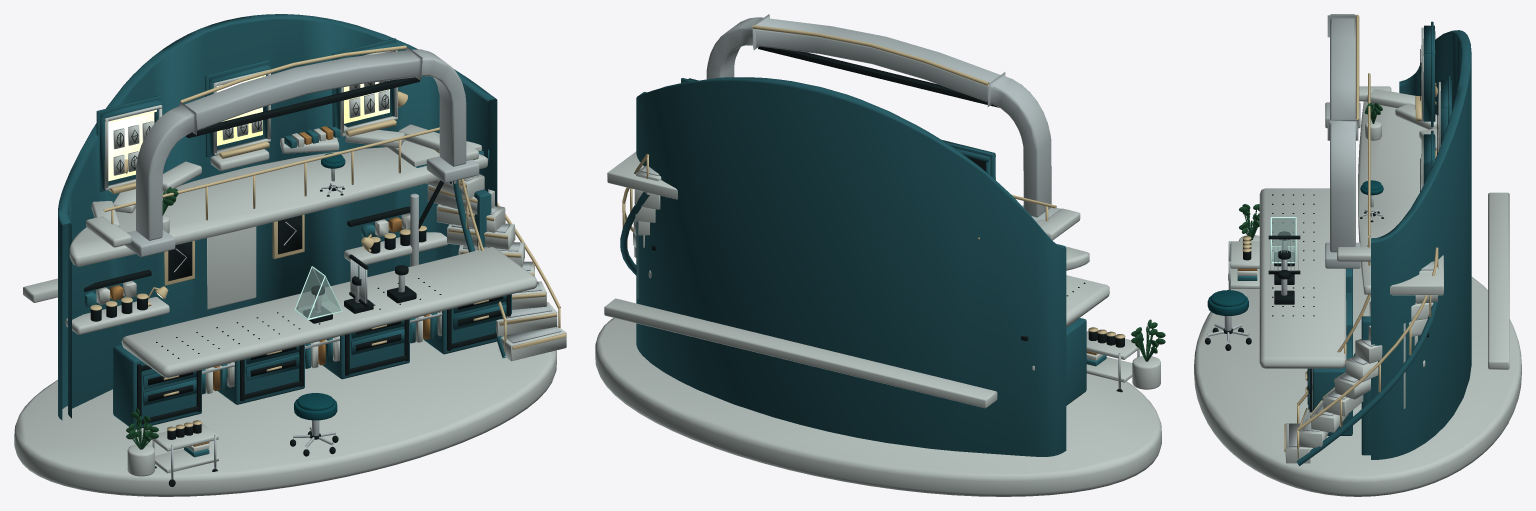
File: lab-compact.glb
3 renders of one model, left to right at view 1: azimuth 30°, elevation 25°; view 2: azimuth 150°, elevation 25°; view 3: azimuth 270°, elevation 25°, orthographic. The views are drawn at different scales.
Visible parts, largest first — view 1: ART_CURVED_WALL, ART_PLINTH, ALCOVE_INSET_FRAME_-2.75_-0.63_0, ART_OPTICAL_BENCH, ALCOVE_FRAME_-2.75, ART_UPPER_GALLERY, ART_GANTRY, ALCOVE_ENGRAVING_0_0_0_AXIS, ALCOVE_SILL_0, GANTRY_FOOT_LEFT, ALCOVE_GLOW_-2.75, BOOK_1 (+5 smaller); view 2: ART_CURVED_WALL, ART_PLINTH, ALCOVE_INSET_FRAME_-2.75_-0.63_0, ART_GANTRY, ALCOVE_FRAME_-2.75, ALCOVE_ENGRAVING_0_0_0_AXIS, ALCOVE_SILL_0, ART_OPTICAL_BENCH, PLANT_LEAF_0; view 3: ART_PLINTH, ART_CURVED_WALL, ALCOVE_INSET_FRAME_-2.75_-0.63_0, ART_OPTICAL_BENCH, ART_UPPER_GALLERY, ART_GANTRY, ALCOVE_FRAME_-2.75, ALCOVE_SILL_0, GANTRY_FOOT_LEFT, ALCOVE_ENGRAVING_0_0_0_AXIS, STOOL_CUSHION, PRISM_GLASSSOLID (+1 smaller).
Boxes of the visible parts, x1,y1,x2,y2 form: ART_CURVED_WALL: (58, 14, 497, 420); ART_PLINTH: (14, 338, 556, 496); ALCOVE_INSET_FRAME_-2.75_-0.63_0: (23, 50, 566, 476); ART_OPTICAL_BENCH: (121, 247, 537, 377); ALCOVE_FRAME_-2.75: (96, 38, 511, 429); ART_UPPER_GALLERY: (69, 147, 487, 266); ART_GANTRY: (136, 46, 466, 240); ALCOVE_ENGRAVING_0_0_0_AXIS: (84, 77, 510, 486); ALCOVE_SILL_0: (90, 45, 566, 431); GANTRY_FOOT_LEFT: (125, 156, 561, 479); ALCOVE_GLOW_-2.75: (108, 75, 389, 298); BOOK_1: (96, 125, 441, 451); ART_CURVED_WALL: (636, 77, 1066, 456); ART_PLINTH: (595, 318, 1161, 496); ALCOVE_INSET_FRAME_-2.75_-0.63_0: (604, 151, 1160, 408); ART_GANTRY: (706, 14, 1051, 217); ALCOVE_FRAME_-2.75: (620, 78, 1086, 405); ALCOVE_ENGRAVING_0_0_0_AXIS: (652, 46, 1124, 392); ALCOVE_SILL_0: (622, 25, 1125, 338); ART_OPTICAL_BENCH: (1066, 275, 1109, 327); PLANT_LEAF_0: (1131, 319, 1165, 361); ART_PLINTH: (1194, 264, 1521, 496); ART_CURVED_WALL: (1371, 30, 1471, 459); ALCOVE_INSET_FRAME_-2.75_-0.63_0: (1230, 27, 1509, 463); ART_OPTICAL_BENCH: (1259, 188, 1346, 368); ART_UPPER_GALLERY: (1358, 101, 1427, 294); ART_GANTRY: (1327, 14, 1358, 252); ALCOVE_FRAME_-2.75: (1296, 21, 1451, 465); ALCOVE_SILL_0: (1242, 14, 1438, 458); GANTRY_FOOT_LEFT: (1207, 102, 1433, 446); ALCOVE_ENGRAVING_0_0_0_AXIS: (1205, 31, 1452, 412); STOOL_CUSHION: (1207, 180, 1383, 315); PRISM_GLASSSOLID: (1272, 218, 1295, 261).
Size of the model in its own units: 12 by 7.72 by 7.
